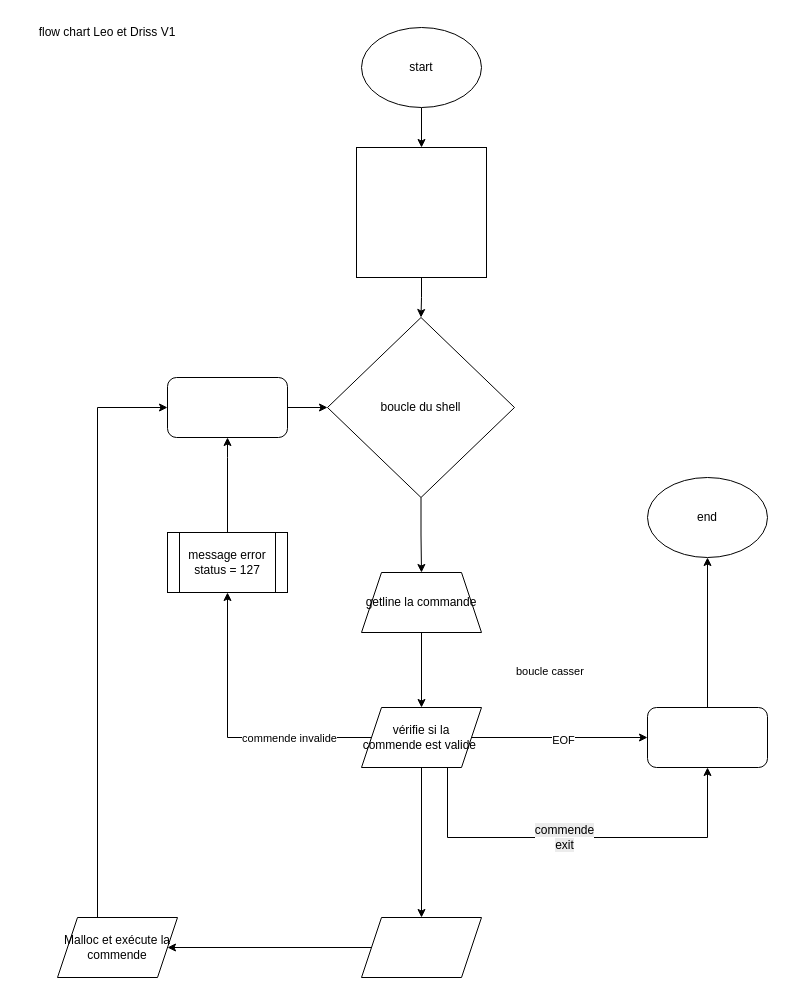
Image size: 785x995. Some labels were removed from this diagram. Each missing label, with the centre of its shape:
"free l'espace commende" belongs at [227,407].
"free la totalité" belongs at [707,737].
"Lance la fork" belongs at [421,947].
"Main() le maine lance le wilprocess" belongs at [421,212].
